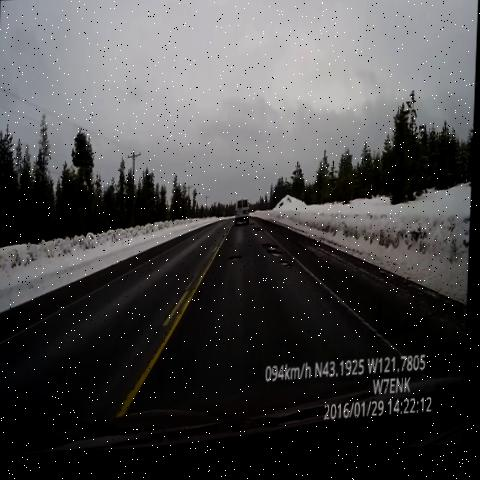pothole: (260, 236, 289, 269), (227, 255, 245, 276), (280, 259, 297, 280), (251, 225, 268, 241)
